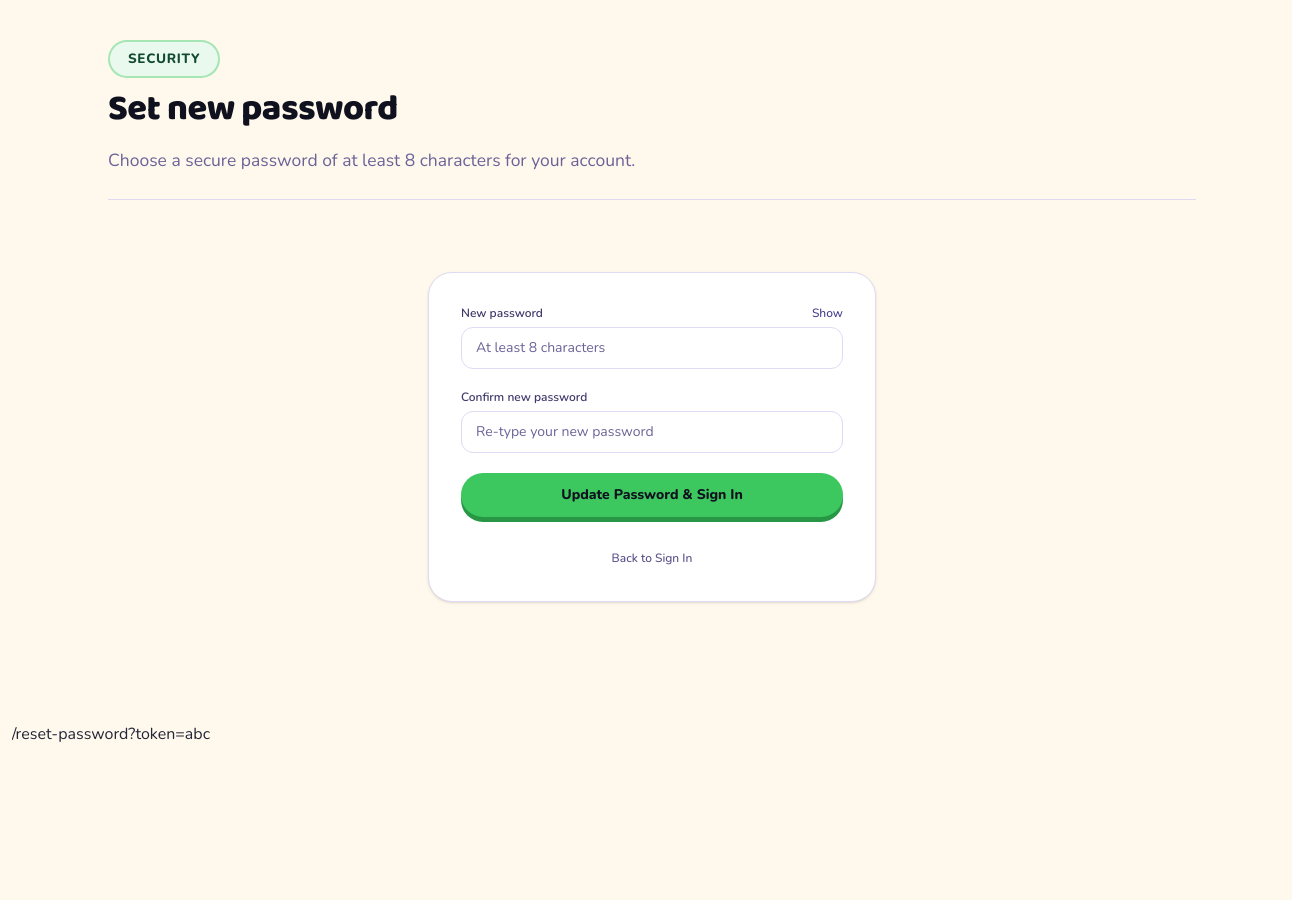
ResetPasswordPage › rejects a password that is too short
In the password field with id "new-password": (652, 348) [461,327,843,369], type "short"
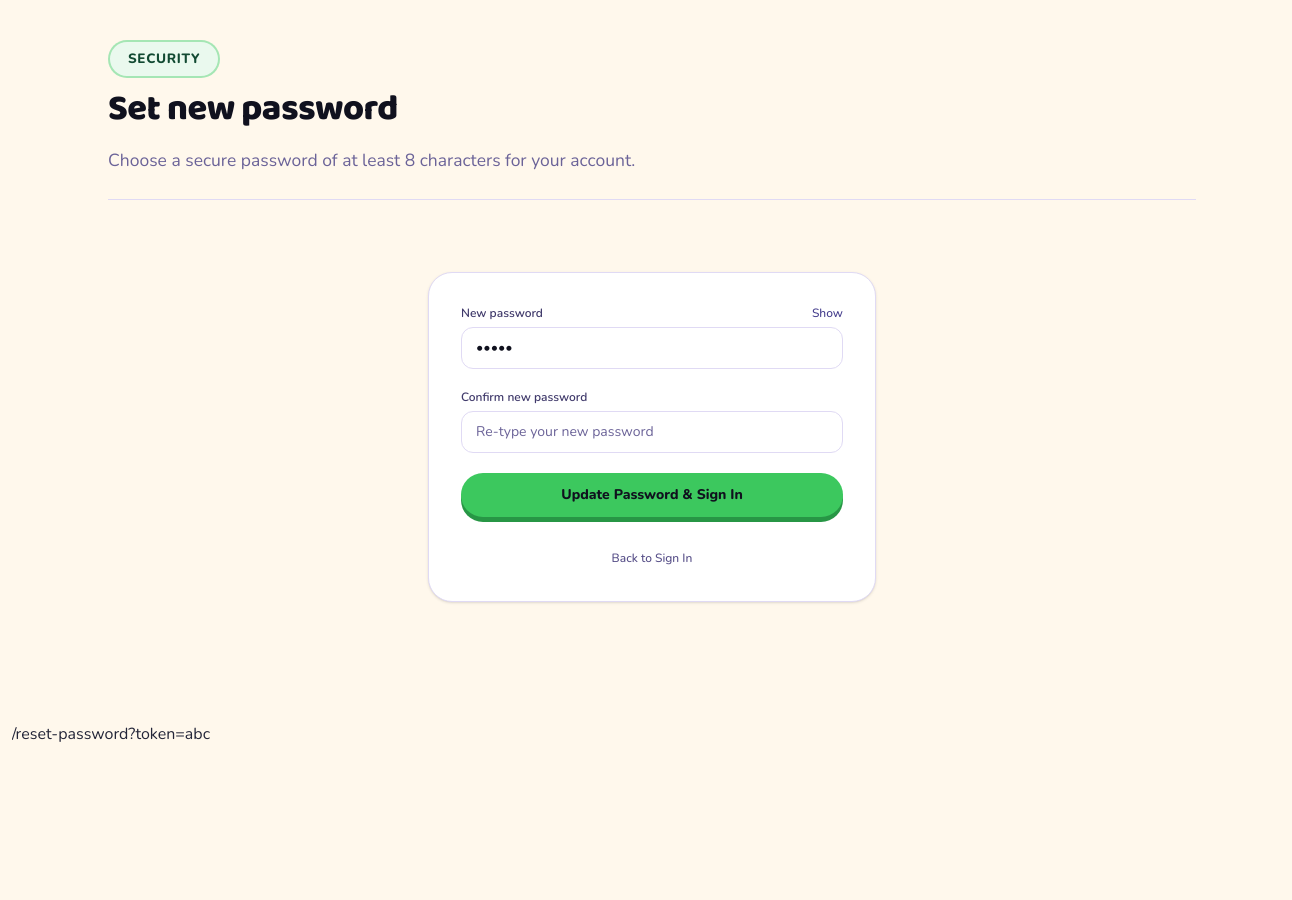
In the password field with id "confirm-new-password": (652, 432) [461,411,843,453], type "short"
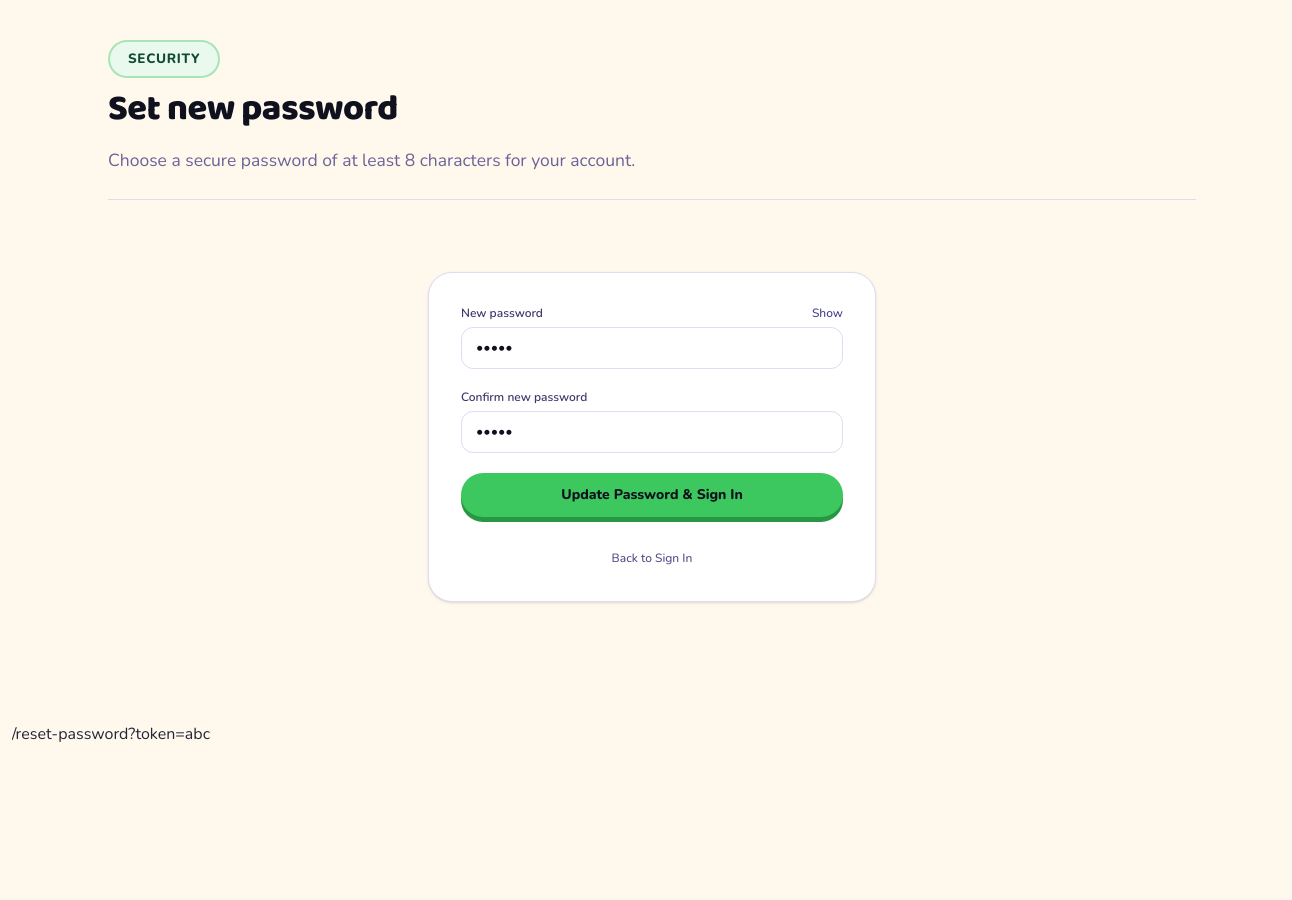
Submit the form, box [461,305,843,569]
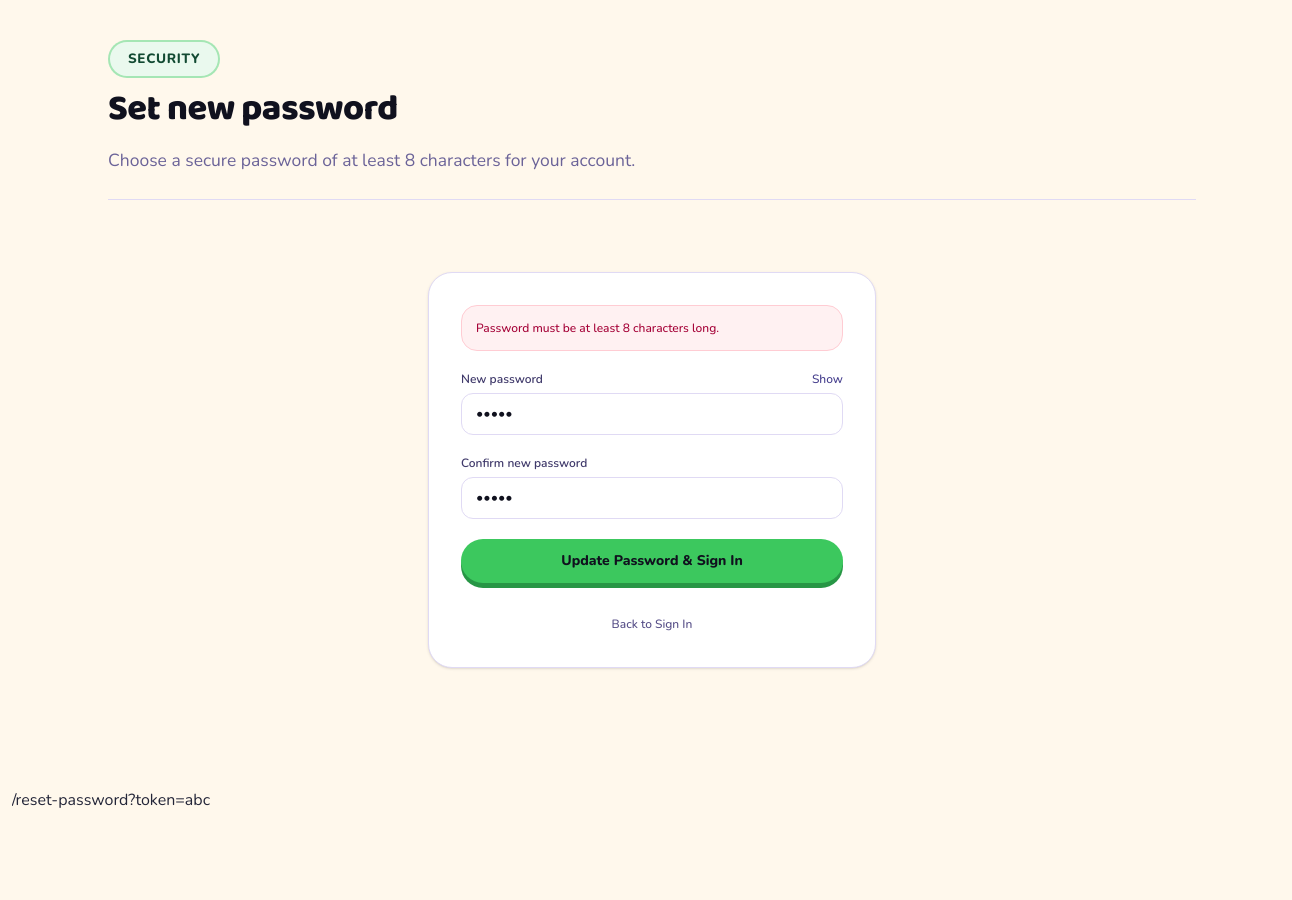
Check: the message reads "Password must be at least 8 characters long.", box [476,320,719,336]
